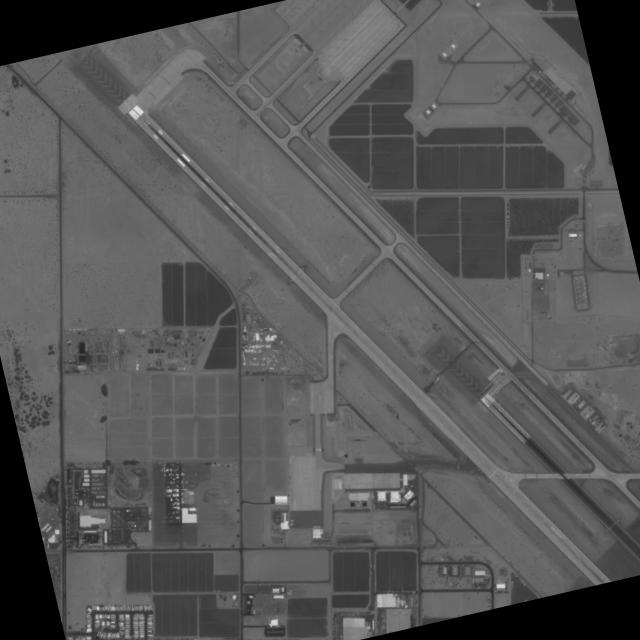plane: (289, 518, 295, 523), (289, 522, 294, 526), (510, 580, 514, 584), (523, 598, 528, 601), (523, 582, 526, 586), (510, 583, 514, 586), (511, 586, 513, 589)
storage-tank: (578, 233, 581, 237), (546, 272, 549, 276)
